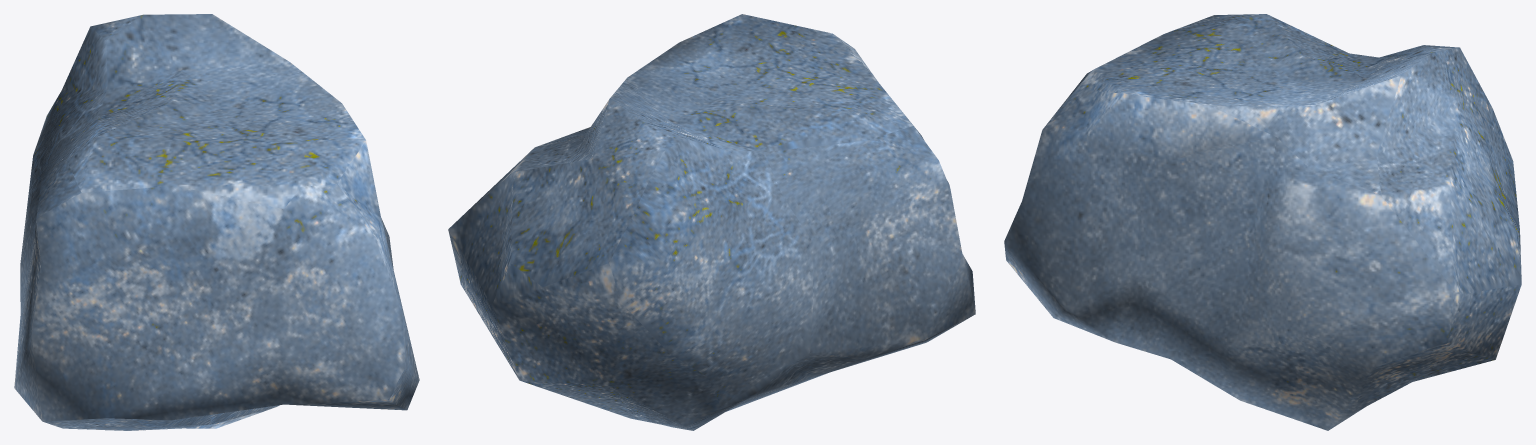
The model's file is piece1.glb.
3 views of the same model, side by side, from view 1: azimuth 30°, elevation 25°; view 2: azimuth 150°, elevation 25°; view 3: azimuth 270°, elevation 25° (orthographic). The views are drawn at different scales.
Parts seen in each view (by area): view 1: Aset_nature_rock_S_wd3efb0_00_LOD4; view 2: Aset_nature_rock_S_wd3efb0_00_LOD4; view 3: Aset_nature_rock_S_wd3efb0_00_LOD4.
Part boxes in pixels (<box>): Aset_nature_rock_S_wd3efb0_00_LOD4: <box>14,14,419,430</box>; Aset_nature_rock_S_wd3efb0_00_LOD4: <box>448,14,975,430</box>; Aset_nature_rock_S_wd3efb0_00_LOD4: <box>1004,14,1521,430</box>.
Size of the model in its own units: 0.7671 by 0.6401 by 0.8559.
1 material, 1 textured.
